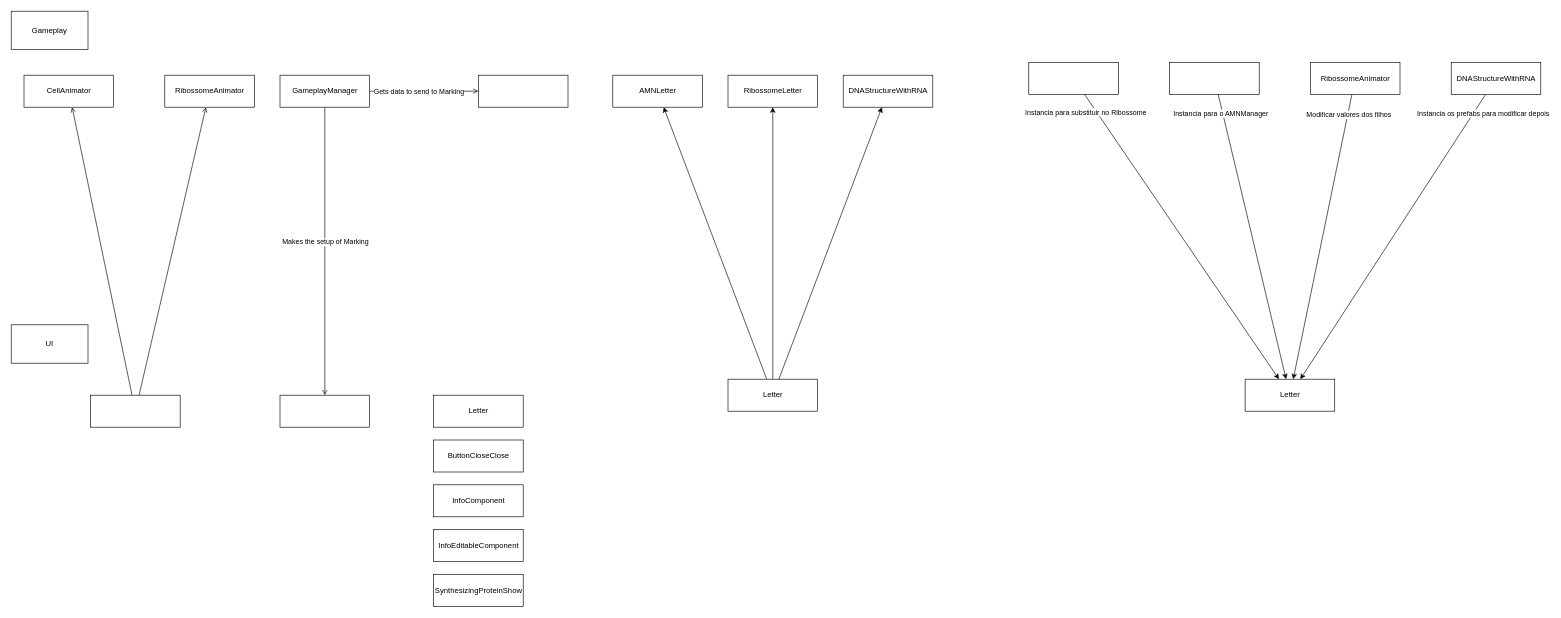
Some shapes in this 1561 by 618 pixel diagram are drawn without their labels. Each missing label, with the centre of its shape:
"AMNQueue" belongs at (x=1073, y=78).
"AMNSpawner" belongs at (x=1214, y=78).
"AnimatorUser" belongs at (x=135, y=411).
"Marking" belongs at (x=324, y=411).
"PhaseManagerMono" belongs at (x=523, y=91).
